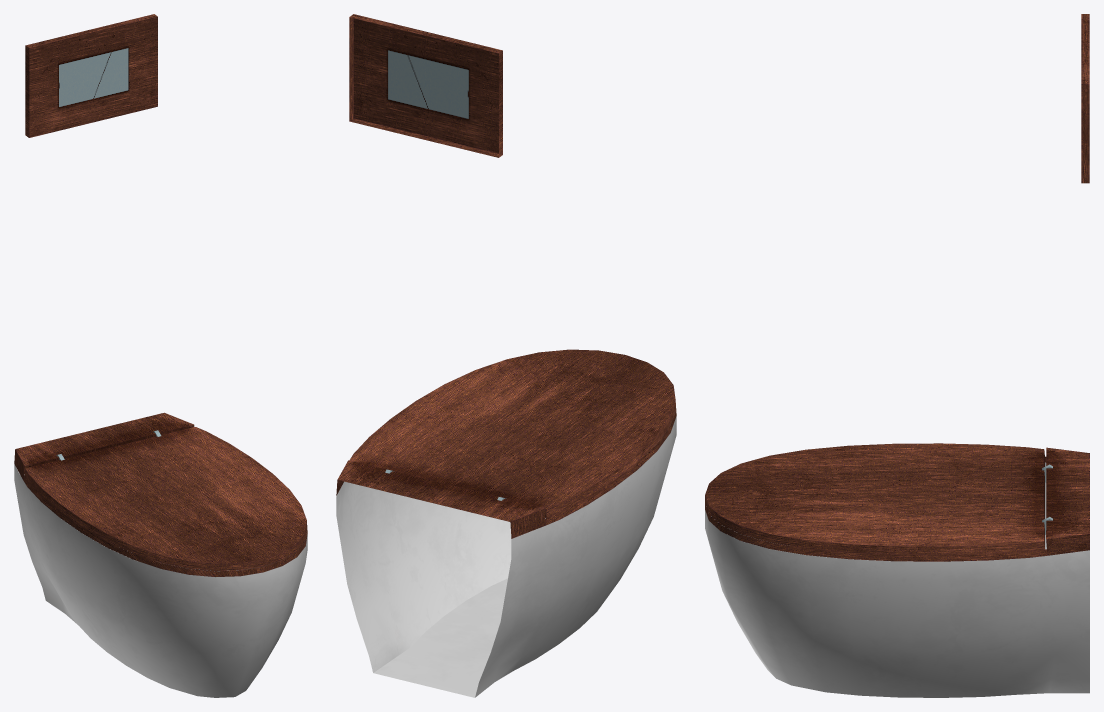
The model's file is ToiletClosed.FBX.
3 renders of one model, left to right at view 1: azimuth 30°, elevation 25°; view 2: azimuth 150°, elevation 25°; view 3: azimuth 270°, elevation 25°, orthographic. The views are drawn at different scales.
Visible parts, largest first — view 1: ToiletClosed_LOD0; view 2: ToiletClosed_LOD0; view 3: ToiletClosed_LOD0.
Boxes of the visible parts, x1,y1,x2,y2 form: ToiletClosed_LOD0: [14, 14, 307, 697]; ToiletClosed_LOD0: [336, 14, 676, 697]; ToiletClosed_LOD0: [705, 14, 1089, 697].
Size of what is drawn, in the model's own units: 36.01 by 99.93 by 56.02.
